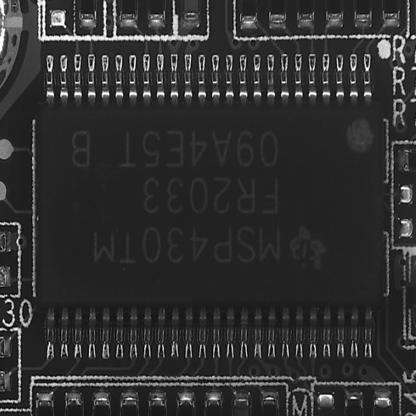PIN: (35, 296, 384, 366), (36, 44, 381, 107)
